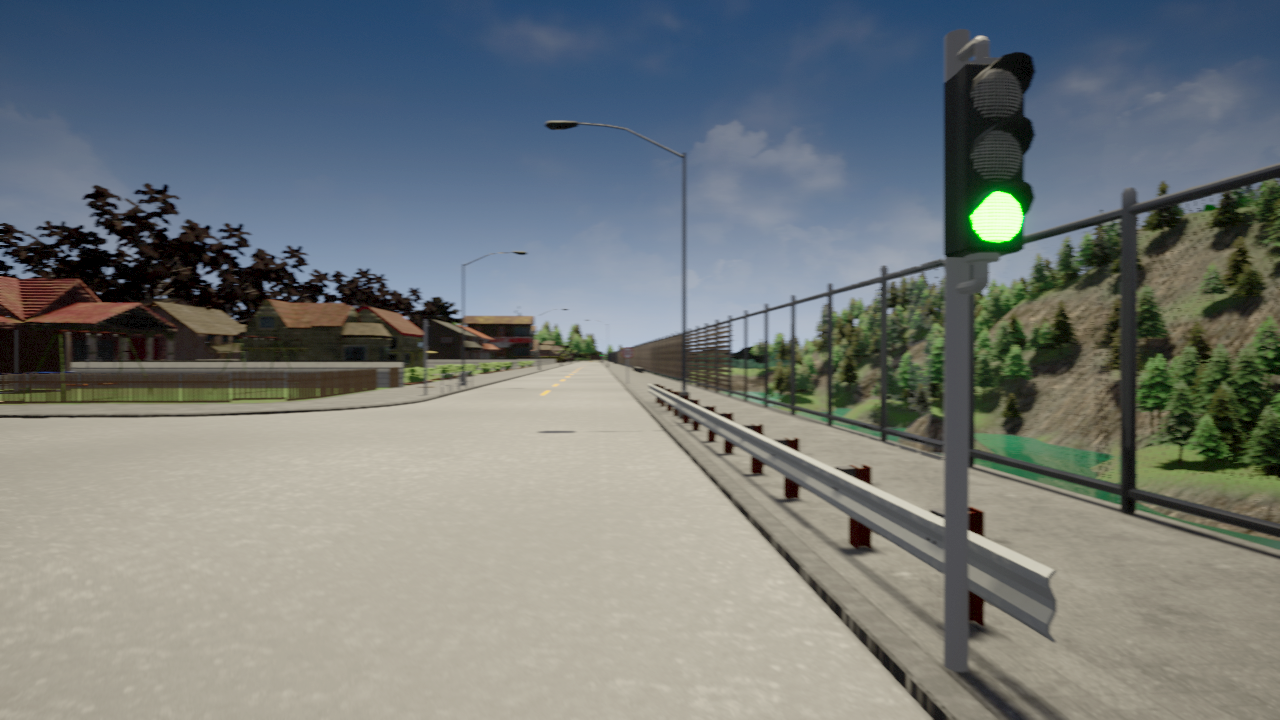green: (943, 50, 1042, 260)
